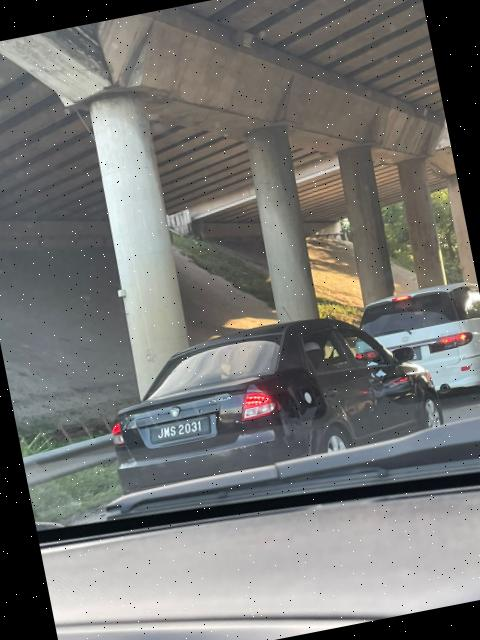License_Plate: (145, 411, 216, 448)
car: (95, 297, 455, 507), (353, 273, 480, 410)
